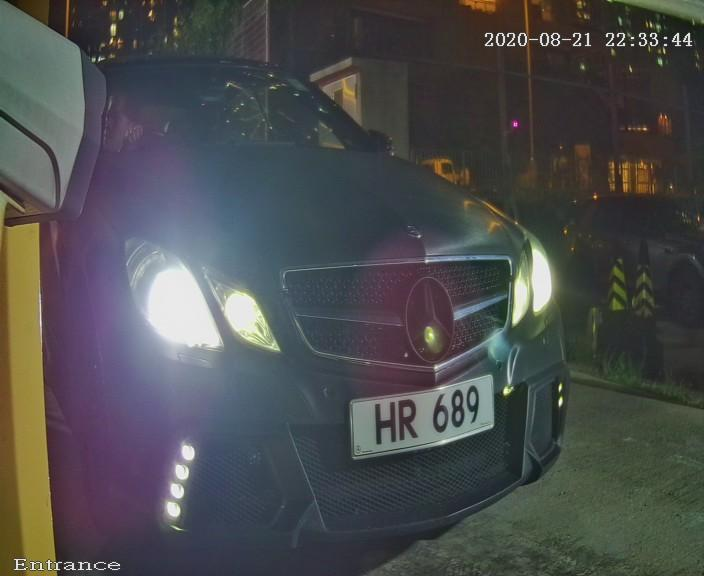Car: (16, 3, 629, 574)
License Plate: (309, 342, 533, 476)
